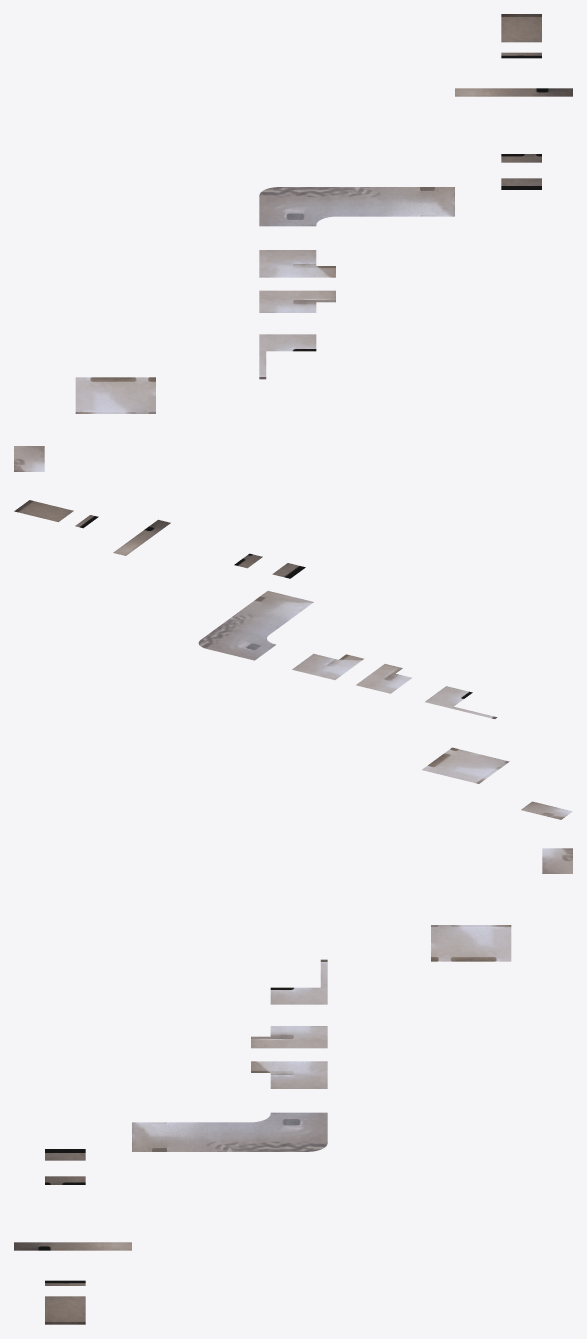
The model's file is Water_Feature.fbx.
The picture shows the model from 3 angles, top to bottom: view 1: azimuth 90°, elevation 25°; view 2: azimuth 150°, elevation 25°; view 3: azimuth 270°, elevation 25°; orthographic projection. The views are drawn at different scales.
Parts seen in each view (by area): view 1: Water_Feature; view 2: Water_Feature; view 3: Water_Feature.
Part boxes in pixels (x1,y1,x2,y2): Water_Feature: (14,14,572,471); Water_Feature: (14,500,572,819); Water_Feature: (14,848,572,1324).
Bounding box in the file's own units: 108 × 1.02 × 54.72.
Materials: 1 (1 with a texture image).
